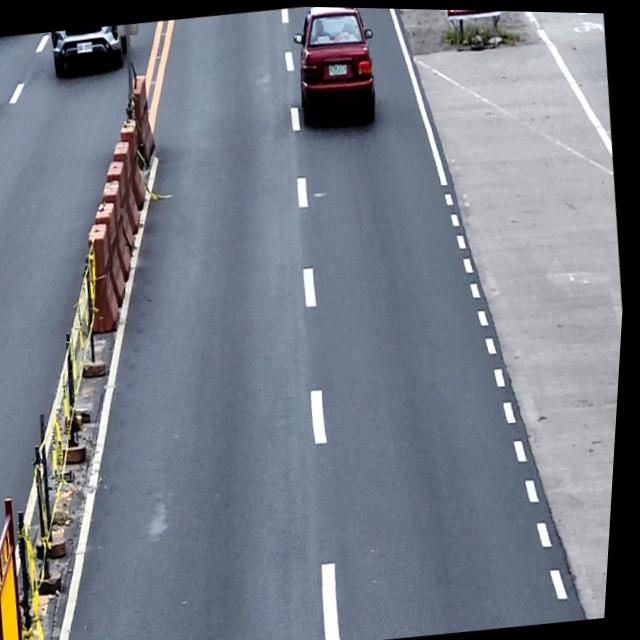Car: (284, 5, 384, 127), (47, 21, 141, 78)
License-Plate: (328, 61, 349, 76), (75, 40, 94, 53)
